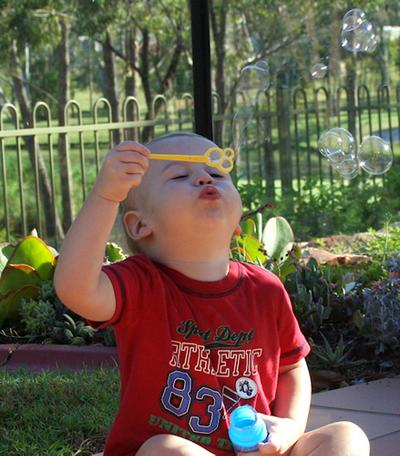person: (54, 130, 376, 456)
